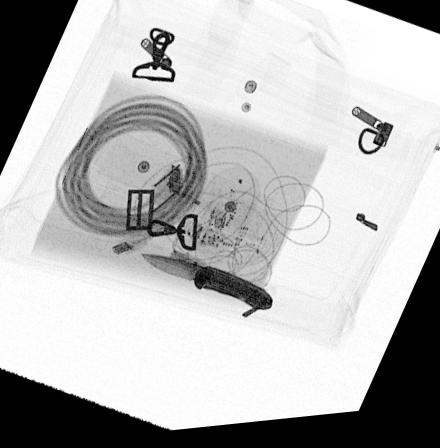Knife: (136, 255, 275, 318)
